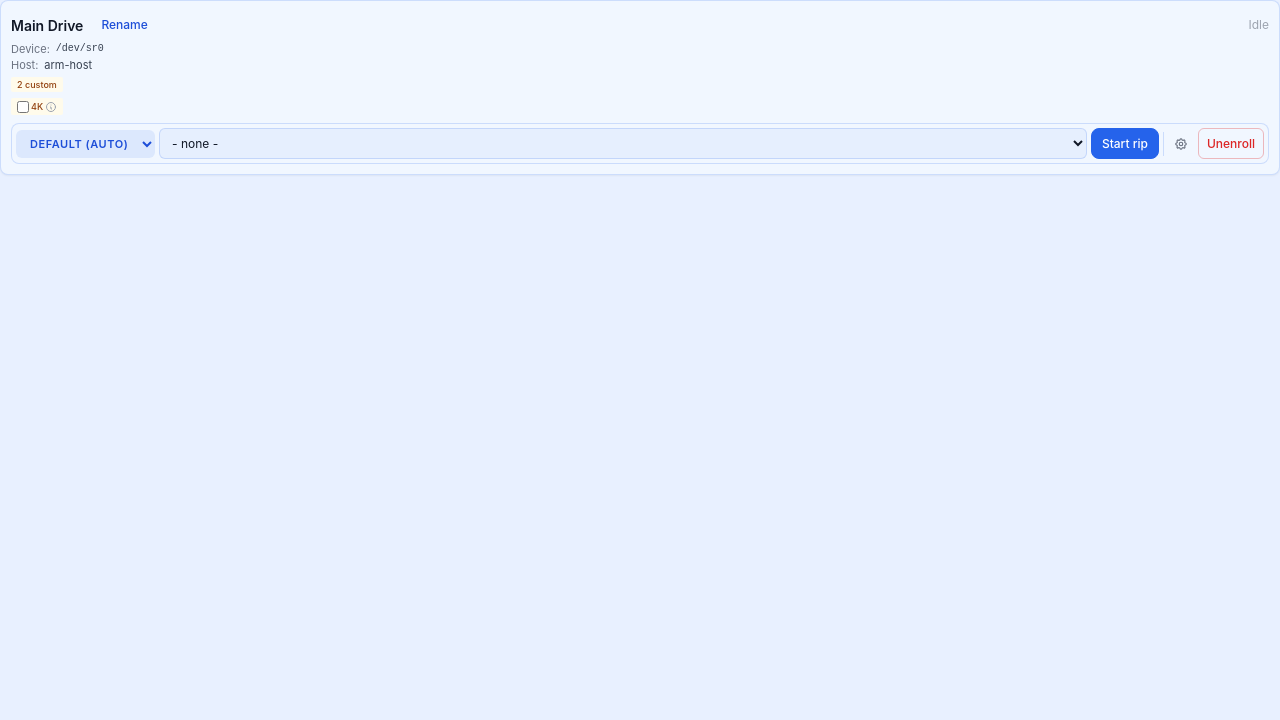
Test: DriveCard › prescan settings panel › populates prescan inputs from drive values
The image size is (1280, 720).
Click the button titled "Drive settings" at (1181, 144), box [1168, 131, 1194, 157]
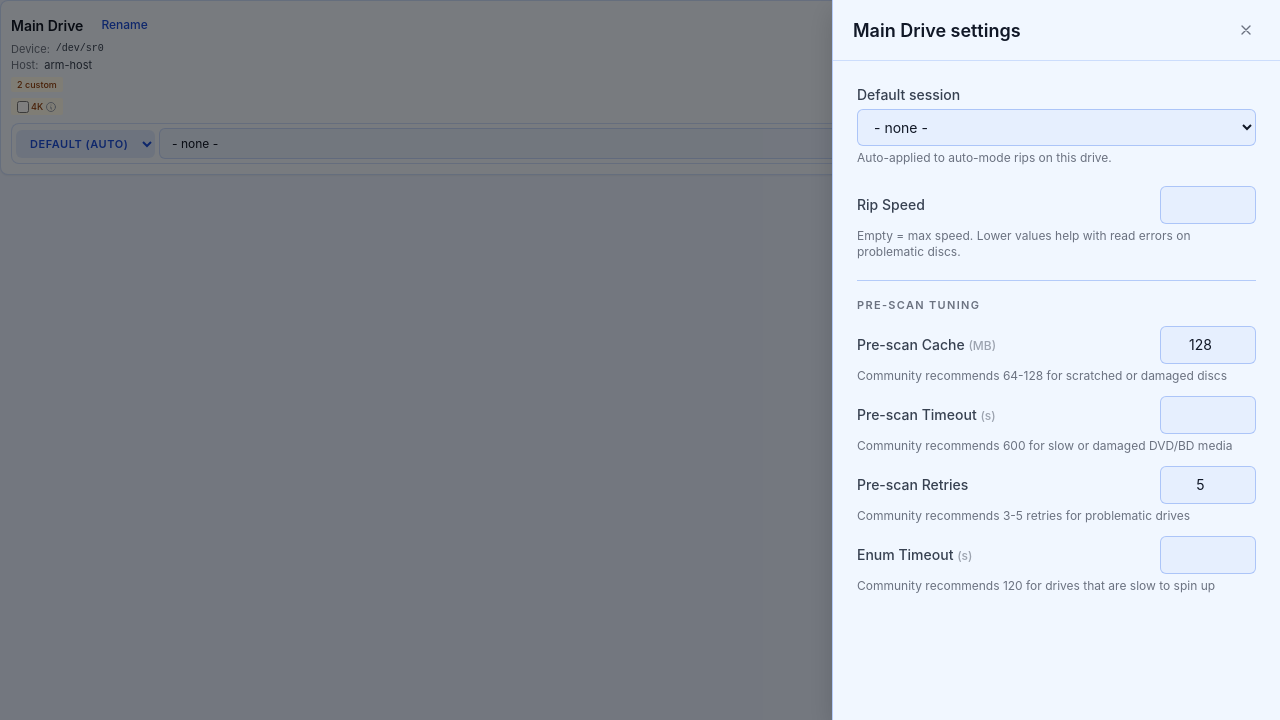
Expected: the number field labelled "Pre-scan Cache (MB)" holds "128", [1160, 326, 1256, 364]
Expected: the number field labelled "Pre-scan Retries" holds "5", [1160, 466, 1256, 504]
